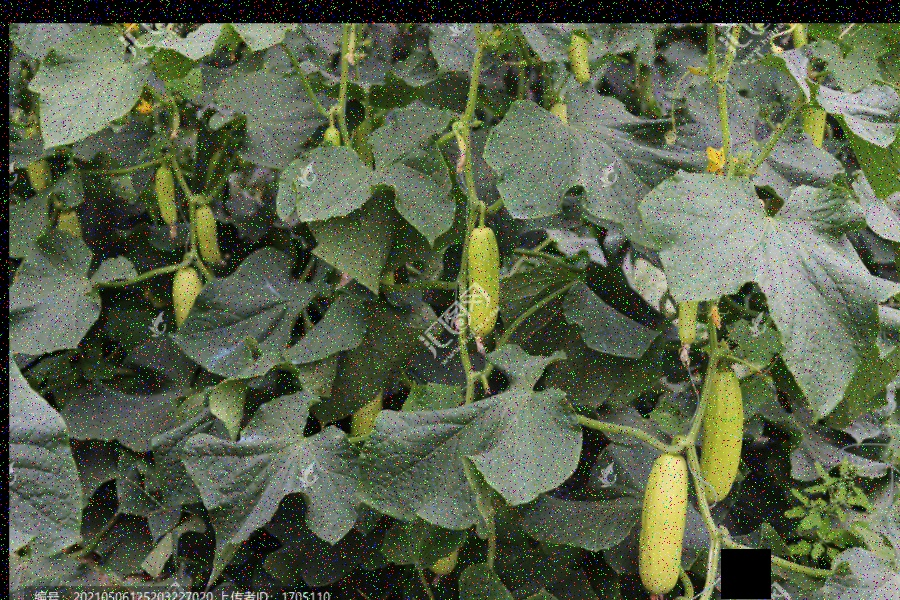cucumber_plant: (656, 138, 872, 413), (198, 401, 574, 544), (38, 24, 196, 153)
